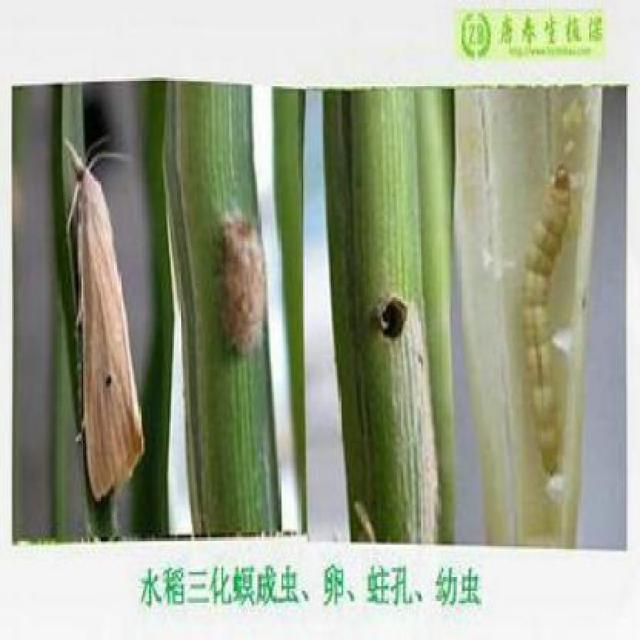stem-borer: (61, 132, 145, 506)
